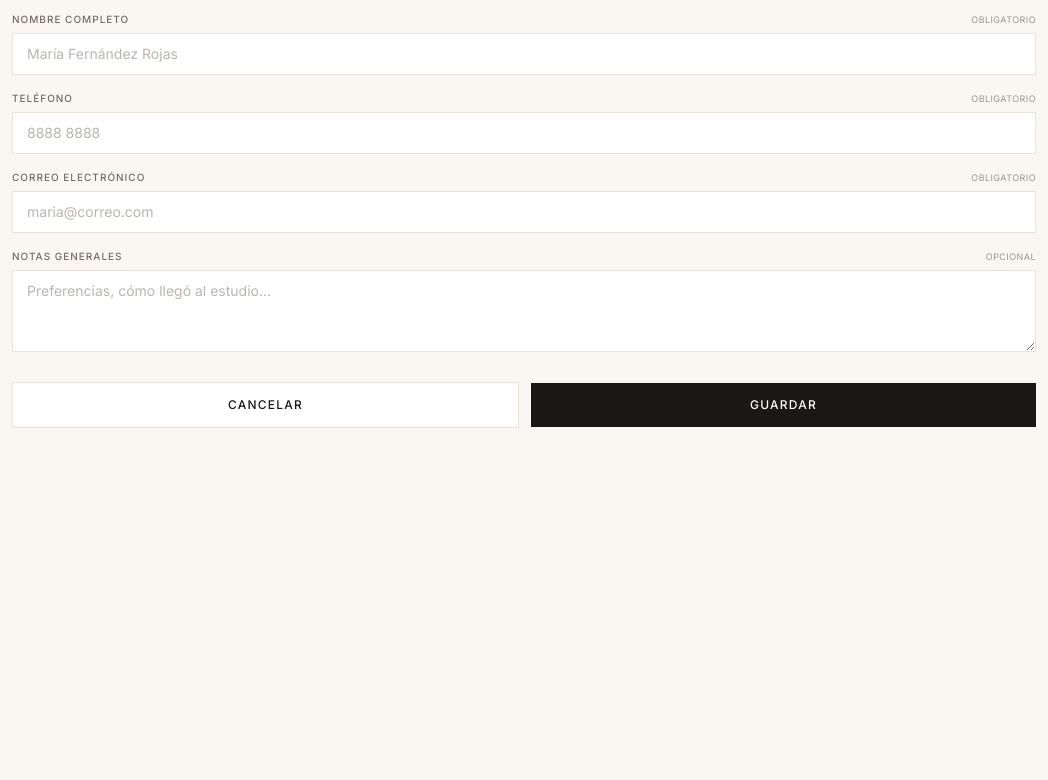
it: ClientForm — resumen de errores › muestra el resumen al enviar con campos obligatorios vacios
This screenshot has width=1048, height=780.
Click the button "Guardar" at (784, 405), box 531,383 -> 1036,427
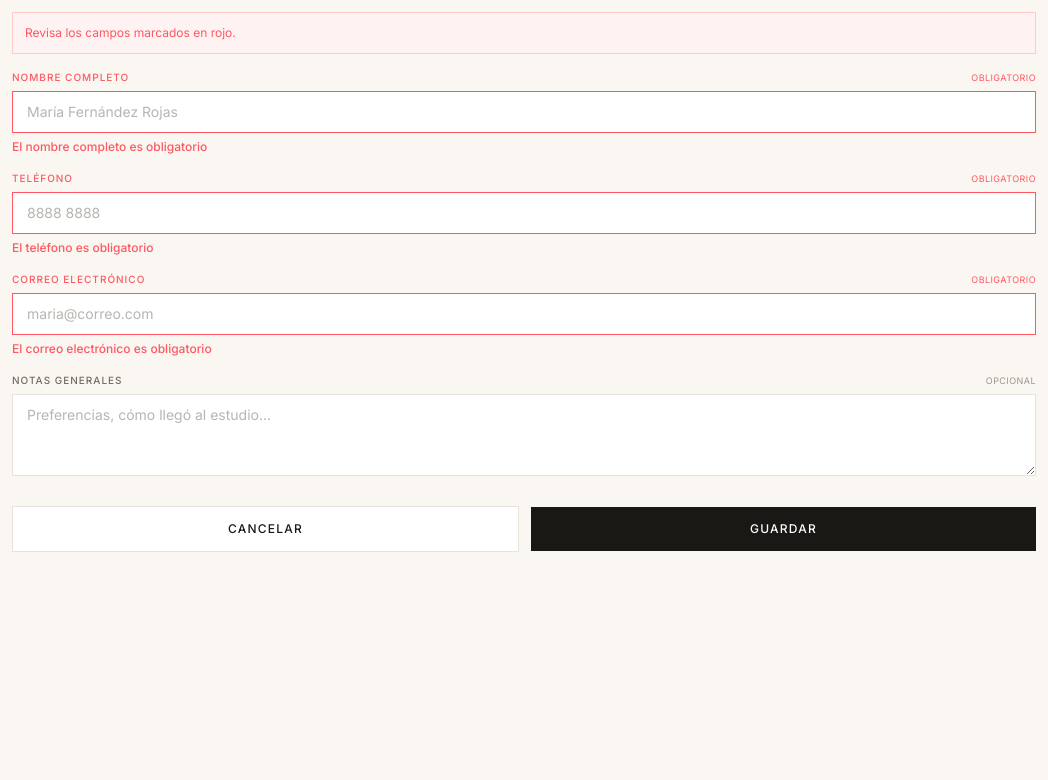
Expected: the text "Revisa los campos marcados en rojo." is shown, 12,12 -> 1036,54
